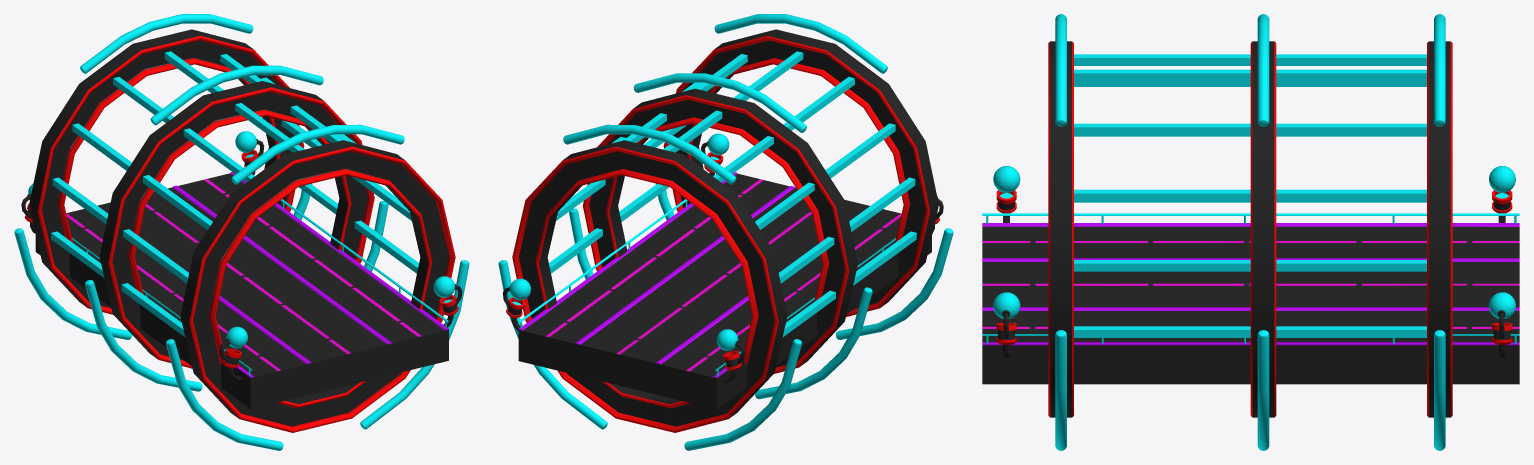
The model's file is Gate_001.fbx.
The picture shows the model from 3 angles, left to right: view 1: azimuth 30°, elevation 25°; view 2: azimuth 150°, elevation 25°; view 3: azimuth 270°, elevation 25°; orthographic projection. The views are drawn at different scales.
Parts seen in each view (by area): view 1: Gate_001; view 2: Gate_001; view 3: Gate_001.
Boxes of the visible parts, left/top/right/bottom form: Gate_001: left=14, top=14, right=469, bottom=450; Gate_001: left=498, top=14, right=953, bottom=450; Gate_001: left=982, top=14, right=1519, bottom=450.
Bounding box in the file's own units: 6.1 × 6 × 7.5.
